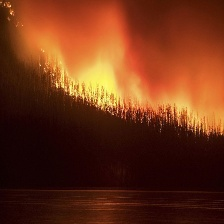fire: (52, 71, 114, 106)
smoke: (30, 1, 222, 95)
